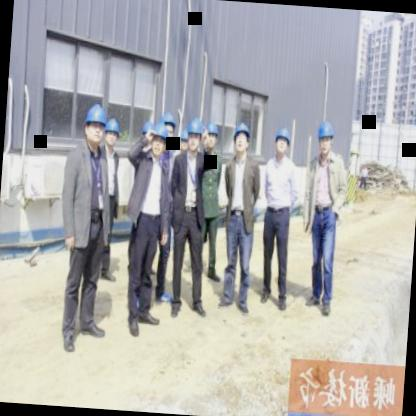helmet: (80, 97, 110, 150), (266, 124, 294, 162), (313, 117, 337, 159), (186, 114, 207, 156), (229, 119, 252, 157), (159, 108, 178, 150), (102, 116, 122, 154), (150, 122, 168, 158), (138, 115, 156, 149), (203, 118, 220, 152), (175, 128, 190, 156)
